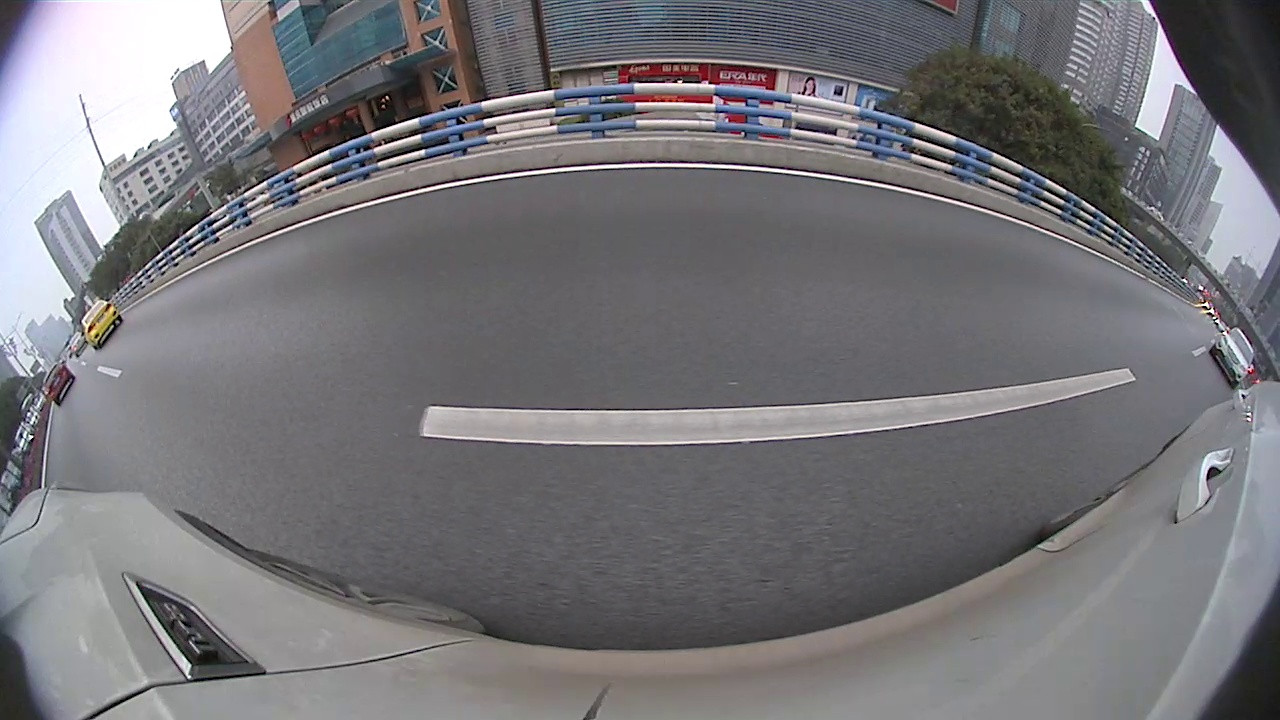car: (1210, 328, 1257, 392), (79, 299, 123, 351), (39, 361, 78, 408)
